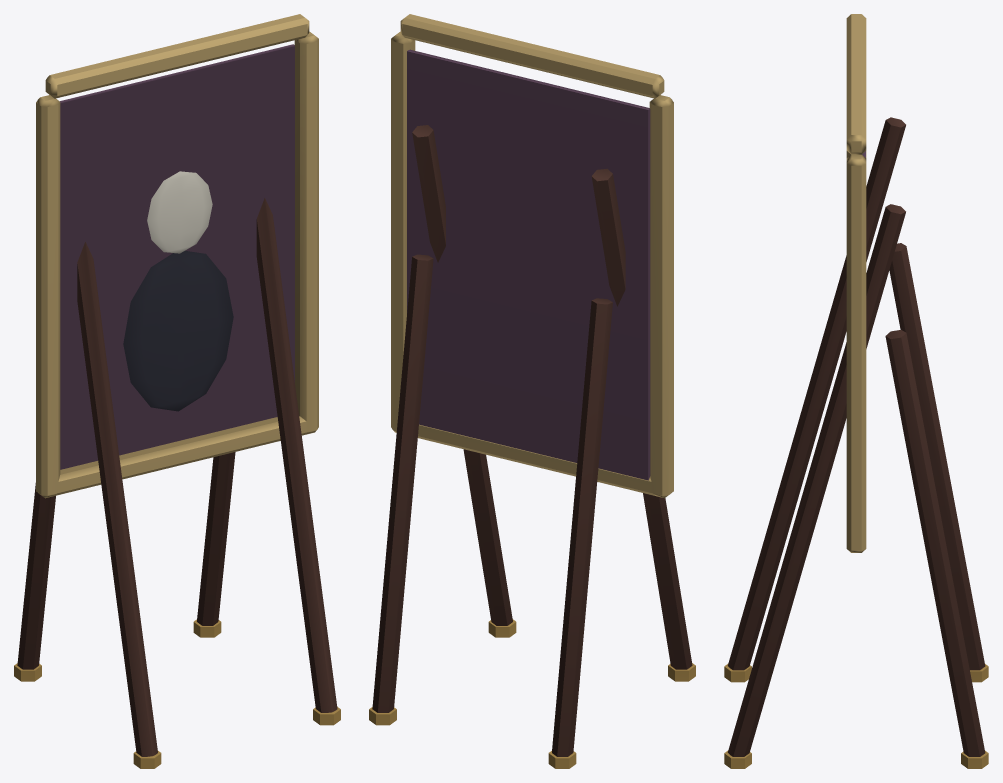
File: wall_painting_frame.glb
3 views of the same model, side by side, from view 1: azimuth 30°, elevation 25°; view 2: azimuth 150°, elevation 25°; view 3: azimuth 270°, elevation 25° (orthographic).
Visible parts, largest first — view 1: canvas, wall_painting_frame; view 2: canvas, wall_painting_frame; view 3: wall_painting_frame.
Part boxes in pixels (x1,y1,x2,y2): canvas: (60,44,294,469); wall_painting_frame: (14,14,340,768); canvas: (407,49,650,480); wall_painting_frame: (369,14,695,768); wall_painting_frame: (724,14,988,768).
Size of the model in its own units: 0.805 by 1.81 by 0.67.
